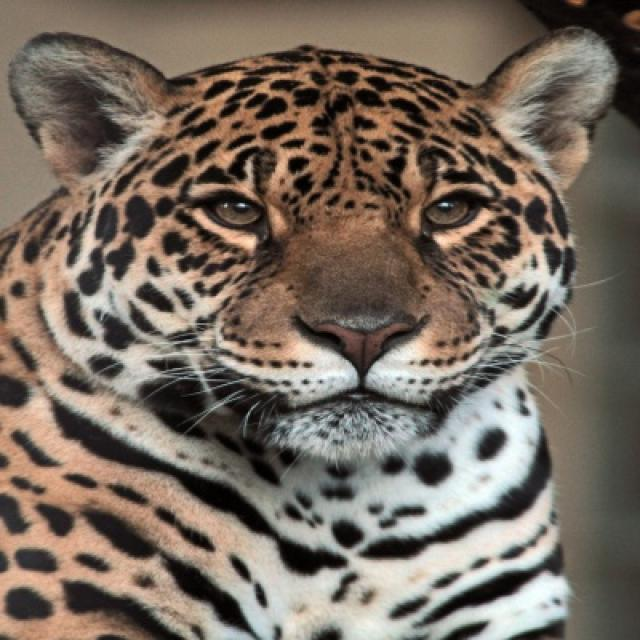Jaguar: (0, 24, 622, 638)
